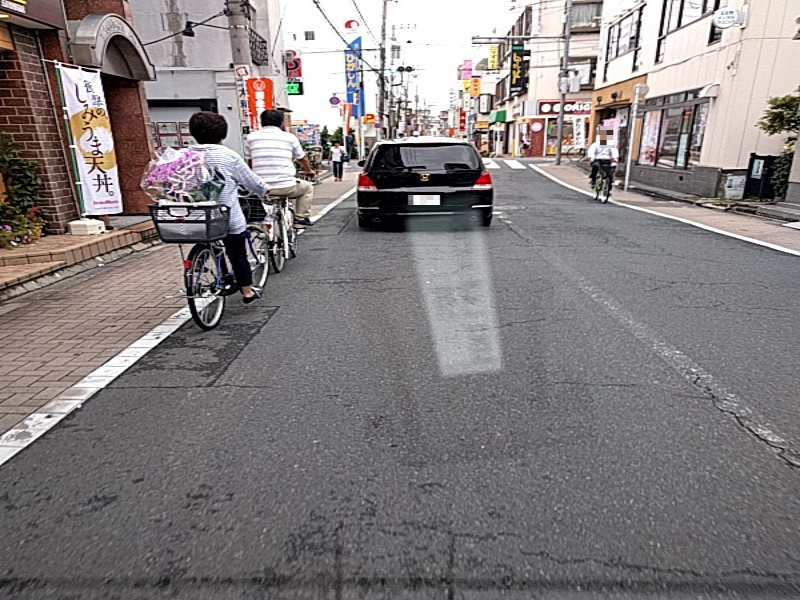long_crack: (665, 362, 799, 474)
